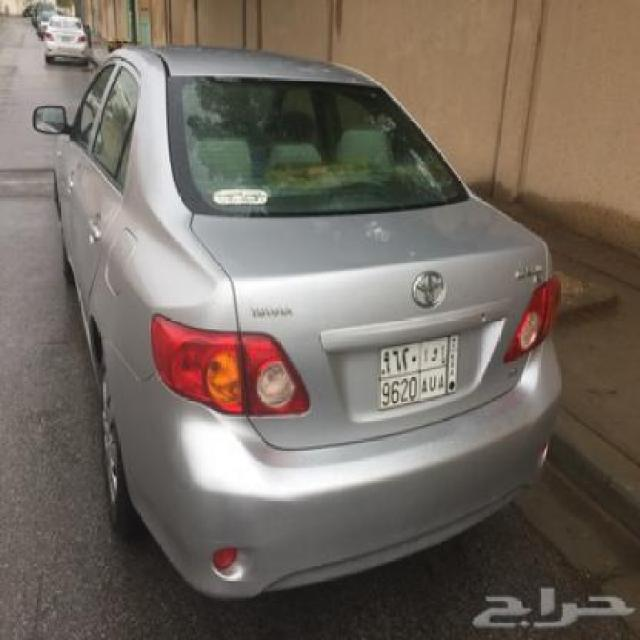license_plate: (376, 330, 461, 412)
